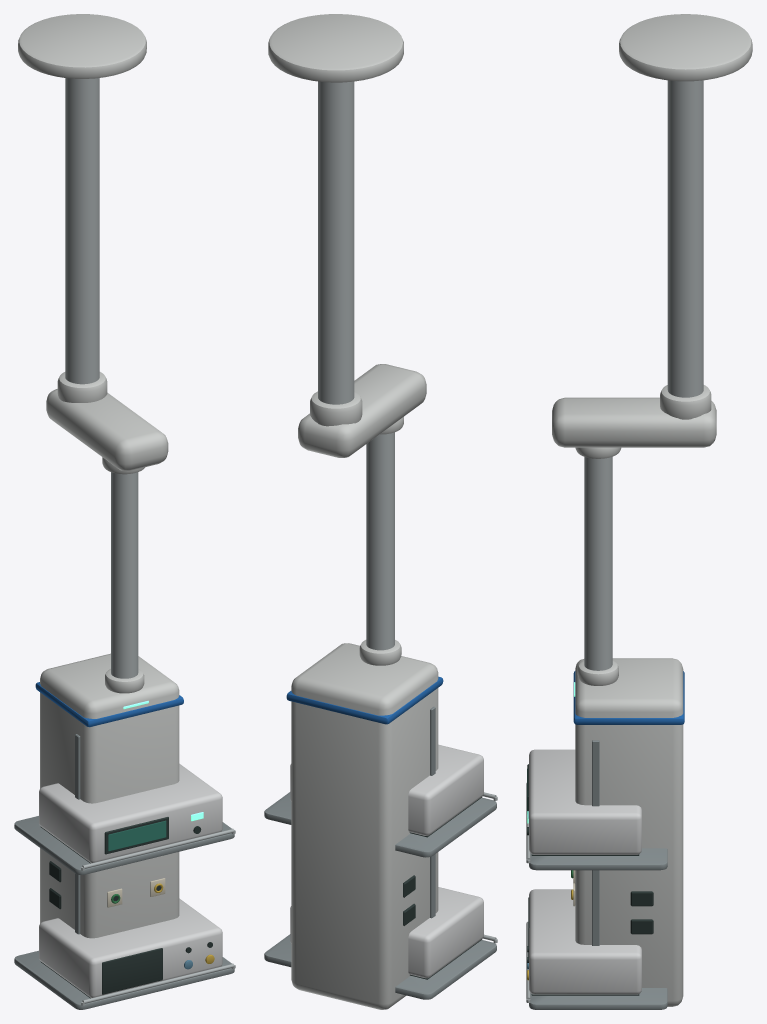
File: sc-surgical-pendant.glb
3 views of the same model, side by side, from view 1: azimuth 30°, elevation 25°; view 2: azimuth 150°, elevation 25°; view 3: azimuth 270°, elevation 25° (orthographic). The views are drawn at different scales.
Visible parts, largest first — view 1: sc-surgical-pendant; view 2: sc-surgical-pendant; view 3: sc-surgical-pendant.
Part boxes in pixels (box(x1,y1,x2,y2)): sc-surgical-pendant: box(14, 14, 235, 1009); sc-surgical-pendant: box(264, 14, 497, 1009); sc-surgical-pendant: box(526, 14, 752, 1009).
Bounding box in the file's own units: 0.74 × 4.06 × 0.88.
